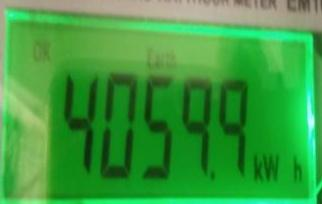.: (248, 152, 306, 184)
0: (209, 170, 218, 182)
1: (99, 70, 137, 177)
5: (60, 71, 98, 174)
6: (142, 73, 176, 176)
:: (180, 77, 215, 178), (218, 78, 252, 177)
